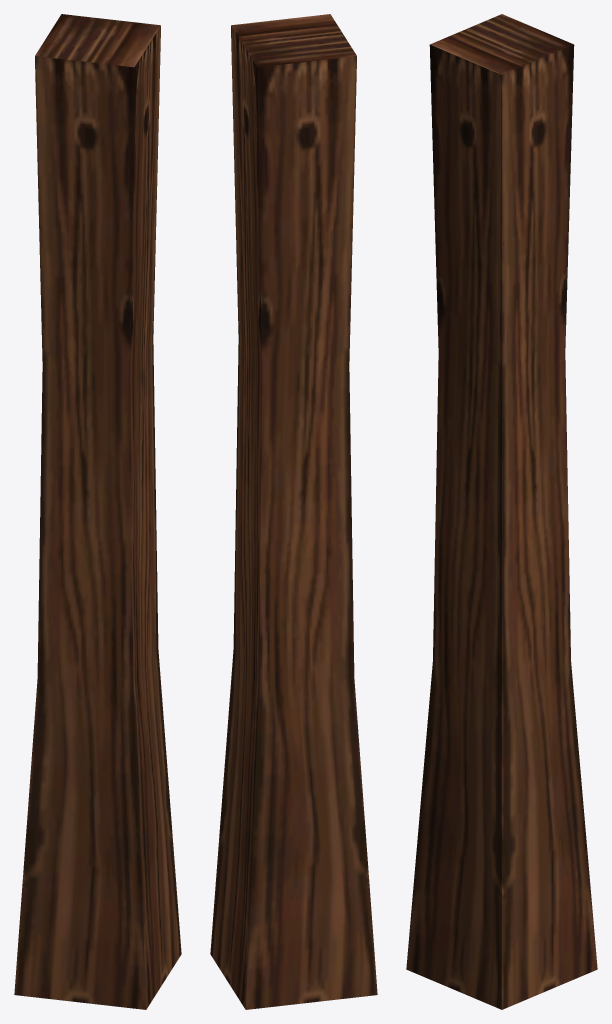
The model's file is OVERHILL_A_01_POST04.fbx.
3 views of the same model, side by side, from view 1: azimuth 30°, elevation 25°; view 2: azimuth 150°, elevation 25°; view 3: azimuth 270°, elevation 25° (orthographic).
Parts seen in each view (by area): view 1: OVERHILL_A_01_POST04; view 2: OVERHILL_A_01_POST04; view 3: OVERHILL_A_01_POST04.
Boxes of the visible parts, x1,y1,x2,y2 form: OVERHILL_A_01_POST04: (14, 14, 181, 1009); OVERHILL_A_01_POST04: (210, 14, 377, 1009); OVERHILL_A_01_POST04: (406, 14, 597, 1009).
Size of the model in its own units: 3147 by 16787 by 3147.
1 material, 1 textured.
